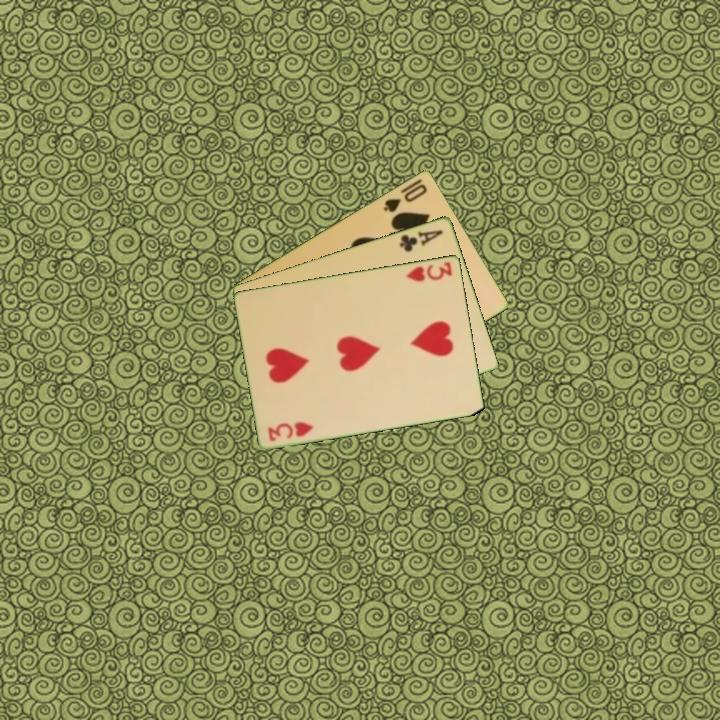10s: (380, 180, 430, 215)
3h: (264, 418, 317, 444), (403, 258, 455, 284)
Ac: (396, 226, 446, 255)
